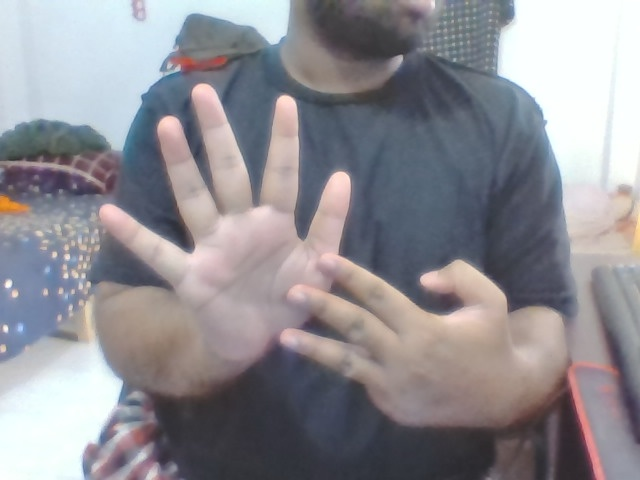M: (88, 75, 521, 443)
